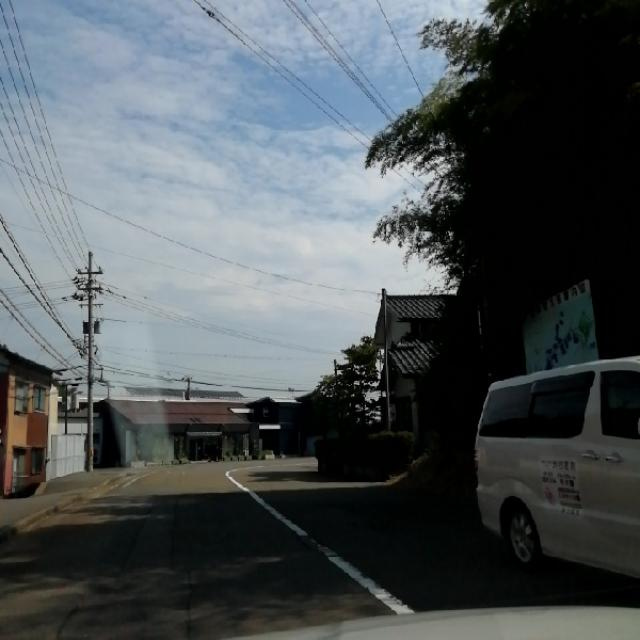pothole: (65, 587, 96, 639)
